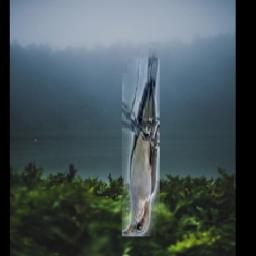Cuckoo: (123, 25, 161, 237)
